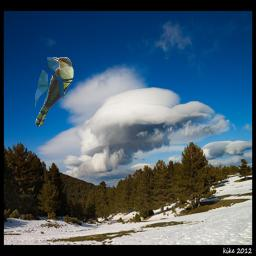Cuckoo: (35, 57, 74, 127)
